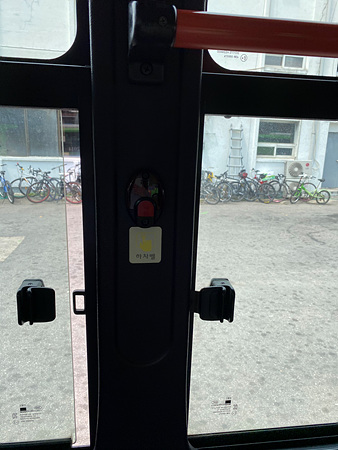bell: (122, 174, 168, 225)
